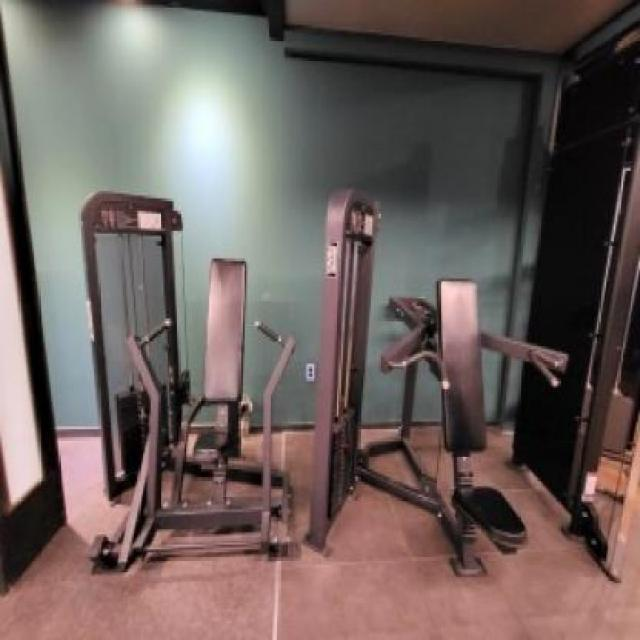shoulder press machine: (294, 160, 583, 597)
